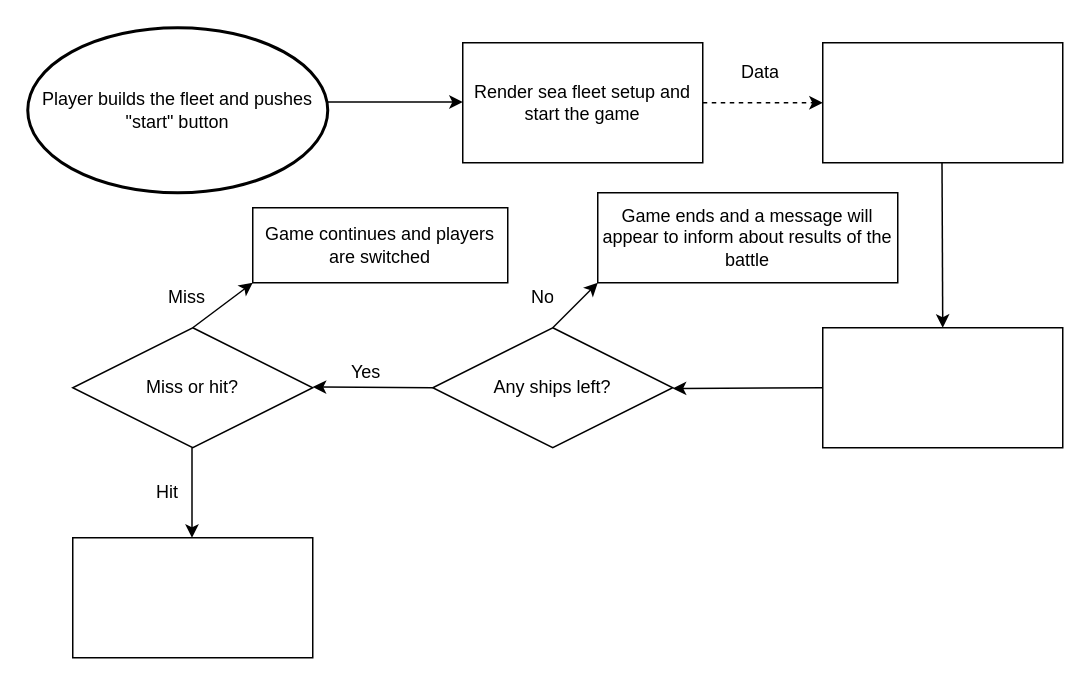
This 1089x684 diagram has some shape labels left out. The shapes that lost their labels are listed below. From the top down, each one's box as (x1, y1, x2, y2) in pixels, then its label:
(821, 41, 1063, 163): Player tries to shoot enemy ship
(821, 326, 1063, 448): Render enemy's sea fleet on my side and on enemy's side too
(71, 536, 313, 658): The player shoots one more time until he misses
